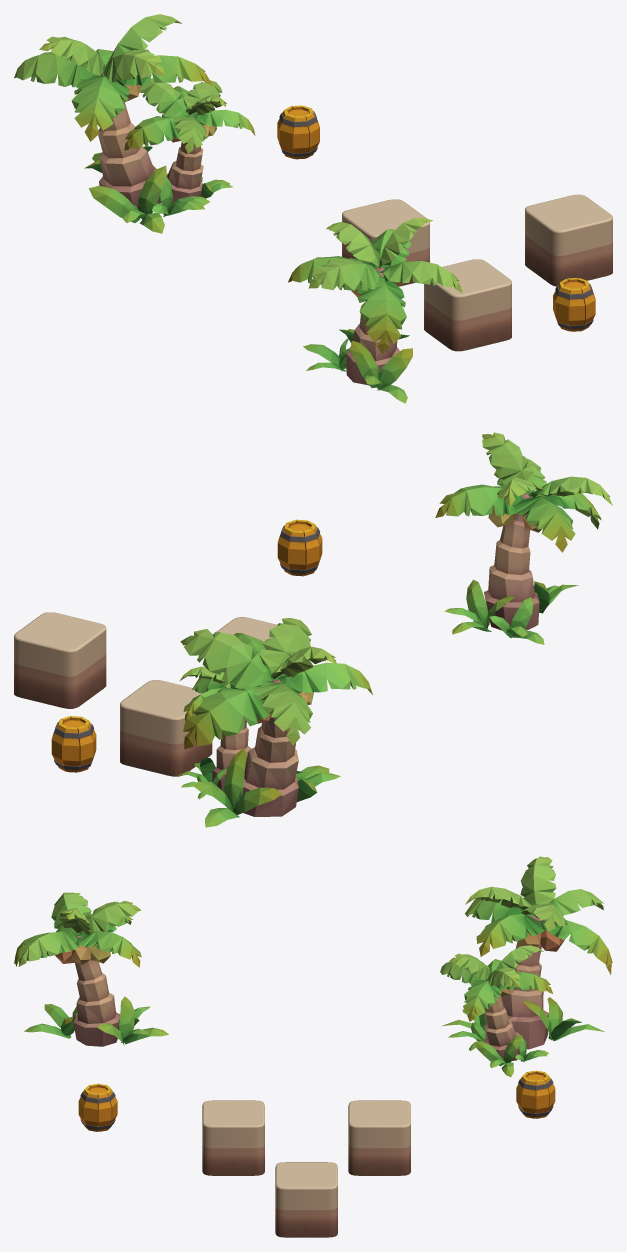
File: Props.fbx
The picture shows the model from 3 angles, top to bottom: view 1: azimuth 30°, elevation 25°; view 2: azimuth 150°, elevation 25°; view 3: azimuth 270°, elevation 25°; orthographic projection. The views are drawn at different scales.
Visible parts, largest first — view 1: yezishu01, yezishu02, Box01, Box01 (2), Box01 (3), Cask (1), Cask; view 2: yezishu01, yezishu02, Box01, Box01 (3), Cask, Cask (1), Box01 (2); view 3: yezishu01, yezishu02, Box01 (2), Box01 (3), Box01, Cask, Cask (1).
Part boxes in pixels (<box>): yezishu01: <box>14,14,255,233</box>; yezishu02: <box>288,218,462,403</box>; Box01: <box>525,194,612,286</box>; Box01 (2): <box>424,259,511,351</box>; Box01 (3): <box>342,199,429,286</box>; Cask (1): <box>553,278,595,331</box>; Cask: <box>277,105,319,159</box>; yezishu01: <box>176,618,372,827</box>; yezishu02: <box>435,432,612,644</box>; Box01: <box>14,612,106,708</box>; Box01 (3): <box>120,680,212,776</box>; Cask: <box>51,716,96,772</box>; Cask (1): <box>277,519,322,576</box>; Box01 (2): <box>206,617,277,691</box>; yezishu01: <box>440,856,612,1077</box>; yezishu02: <box>14,892,168,1046</box>; Box01 (2): <box>202,1100,264,1175</box>; Box01 (3): <box>348,1100,410,1175</box>; Box01: <box>275,1162,337,1237</box>; Cask: <box>516,1070,555,1118</box>; Cask (1): <box>78,1083,117,1131</box>.
Size of the model in its own units: 21.06 by 10.64 by 28.71.
Materials: 3 (3 with a texture image).
